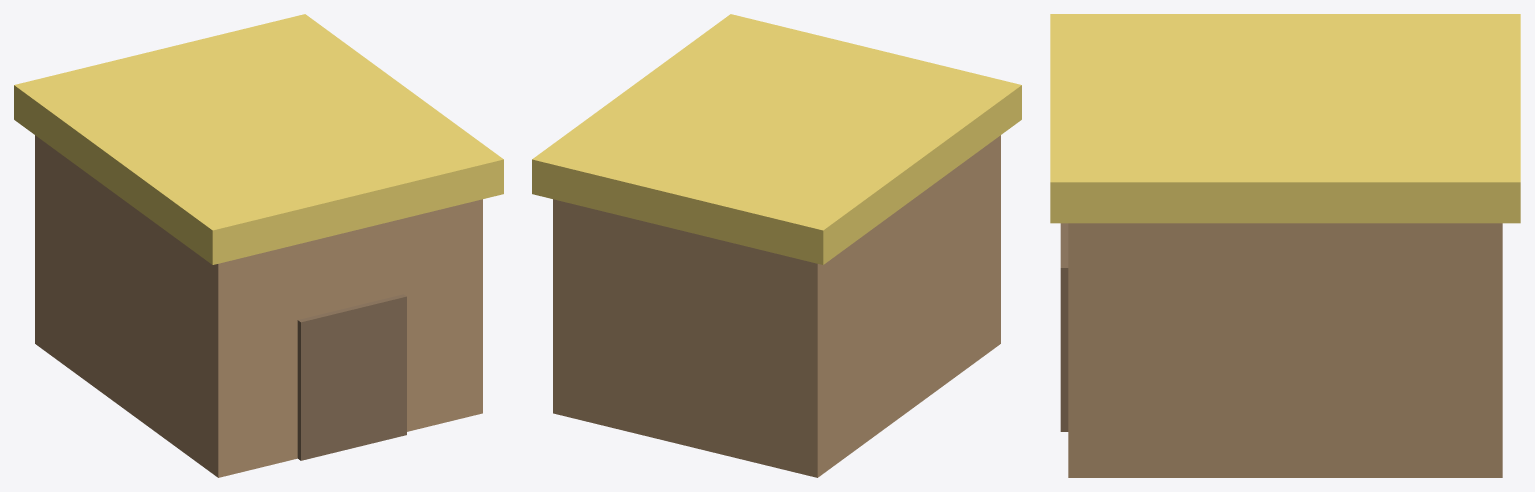
File: Prop_Pet_AMF_Kennel_V3.glb
The picture shows the model from 3 angles, left to right: view 1: azimuth 30°, elevation 25°; view 2: azimuth 150°, elevation 25°; view 3: azimuth 270°, elevation 25°; orthographic projection. The views are drawn at different scales.
Parts seen in each view (by area): view 1: Prop_Pet_AMF_Kennel_V3; view 2: Prop_Pet_AMF_Kennel_V3; view 3: Prop_Pet_AMF_Kennel_V3.
Part boxes in pixels (x1,y1,x2,y2): Prop_Pet_AMF_Kennel_V3: (14,14,503,477); Prop_Pet_AMF_Kennel_V3: (532,14,1021,477); Prop_Pet_AMF_Kennel_V3: (1050,14,1520,477).
Bounding box in the file's own units: 1.32 × 1.11 × 1.56.
